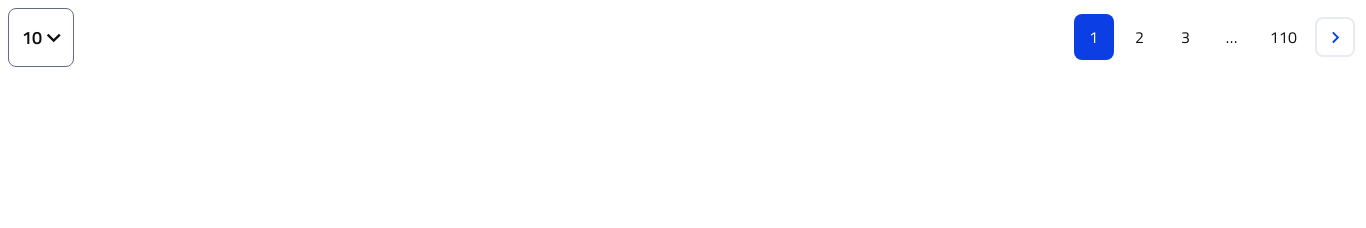
Test case: MIPagination › itemsPerPageOptions › renders the default options when itemsPerPageOptions.options is not provided
The image size is (1366, 228).
Press the mouse on the dropdown with id "items-per-page-select" at {"x": 32, "y": 37}, box [22, 24, 42, 50]
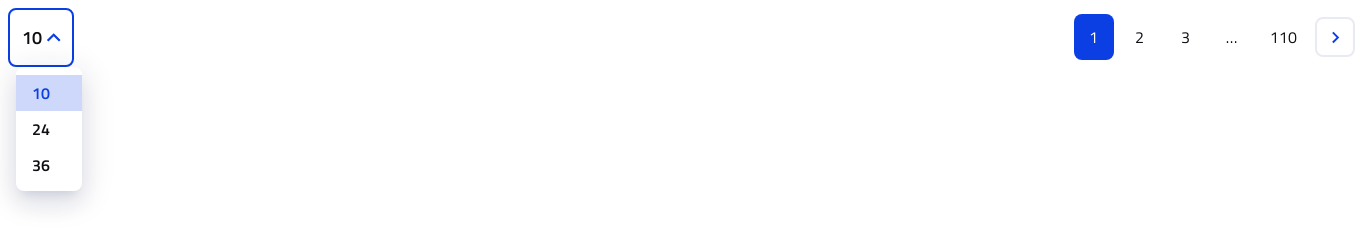
Now the option "10" is shown, box [16, 75, 82, 111]
Now the option "24" is shown, box [32, 117, 50, 141]
Now the option "36" is shown, box [32, 153, 50, 177]
